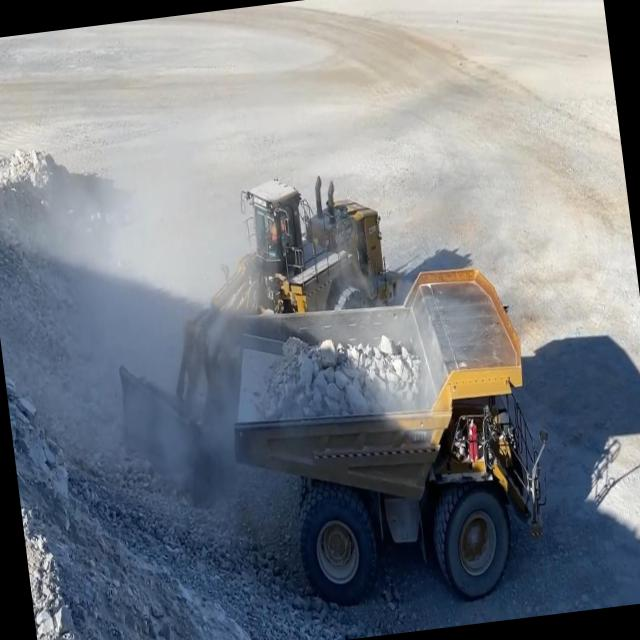Camion volquete: (211, 255, 572, 632)
pala cargadora: (89, 161, 428, 513)
